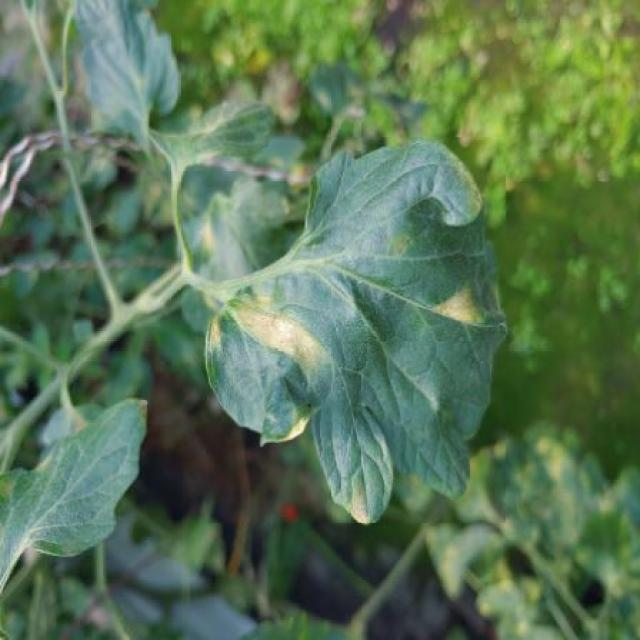Leaf Mold: (205, 137, 506, 523)
